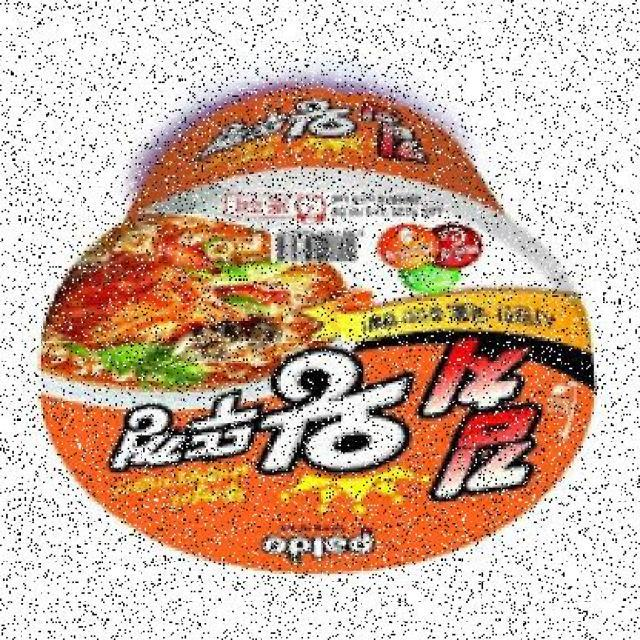Miscellaneous: (18, 82, 596, 575)
